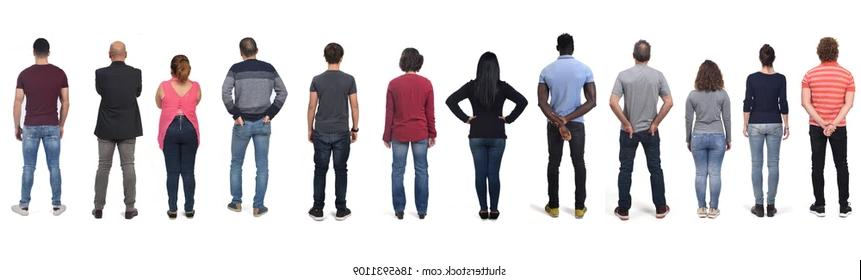jacket: (93, 60, 144, 143)
long sleeve shirt: (684, 86, 733, 148), (744, 70, 788, 128)
short sleeve shirt: (610, 63, 673, 132), (538, 55, 597, 124), (801, 60, 857, 127), (14, 64, 69, 129), (308, 69, 359, 138), (156, 76, 204, 147)
sweater: (445, 76, 531, 140), (220, 59, 290, 121), (384, 74, 438, 144)
trousers: (614, 126, 669, 214), (17, 124, 64, 210), (228, 117, 273, 205), (91, 133, 138, 215), (162, 113, 200, 213), (808, 124, 852, 207), (546, 121, 586, 209), (389, 137, 430, 217), (747, 120, 785, 206), (312, 133, 352, 213), (468, 136, 507, 211), (690, 132, 726, 210)
